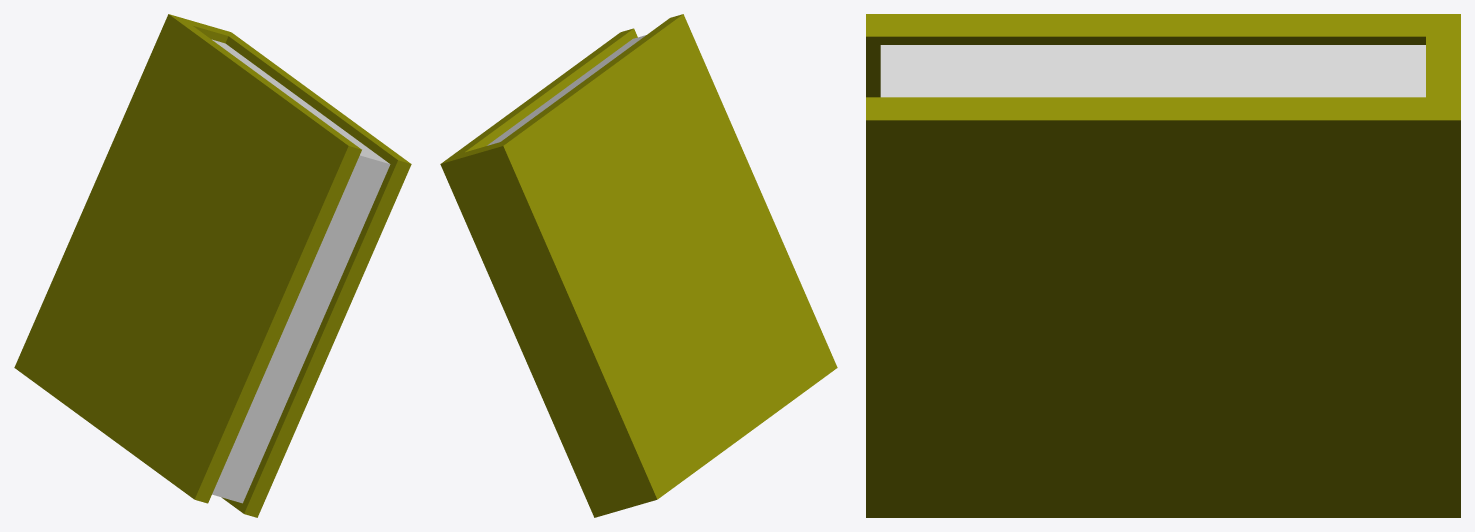
Rendered from Floor Book 4.fbx.
The picture shows the model from 3 angles, left to right: view 1: azimuth 30°, elevation 25°; view 2: azimuth 150°, elevation 25°; view 3: azimuth 270°, elevation 25°; orthographic projection. The views are drawn at different scales.
Parts seen in each view (by area): view 1: pCube4; view 2: pCube4; view 3: pCube4.
Part boxes in pixels (x1,y1,x2,y2): pCube4: [14, 14, 411, 517]; pCube4: [440, 14, 837, 517]; pCube4: [866, 14, 1460, 517].
Size of the model in its own units: 1.61 by 2.48 by 2.32.
